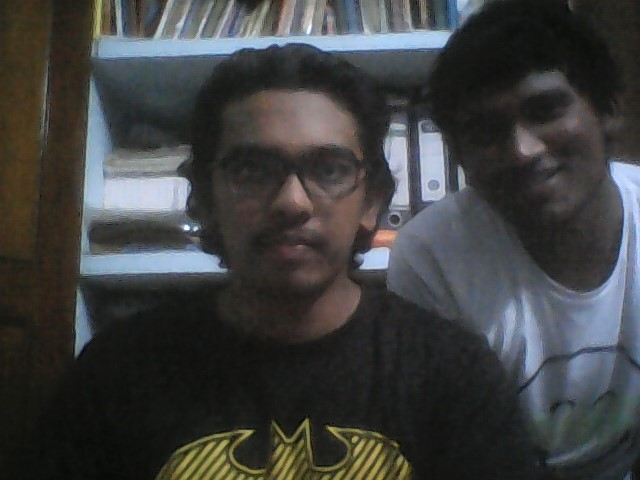person: (48, 45, 527, 480), (399, 2, 640, 311)
